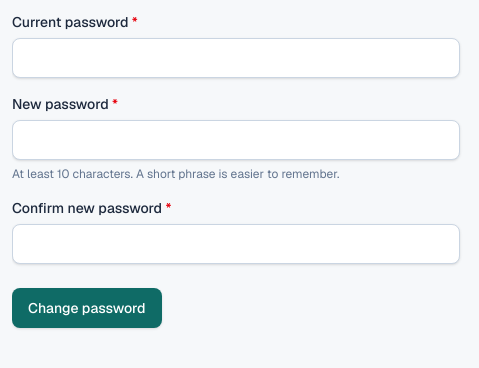
Test: ChangePasswordForm › submits valid input and maps server field errors
The image size is (479, 368).
In the password field labelled "Current password *": (236,58) [12,38,460,78], type "wrong-password"
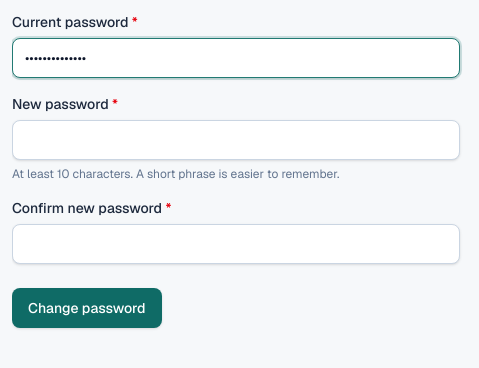
In the password field labelled "New password *": (236,140) [12,120,460,160], type "brand-new-pass"
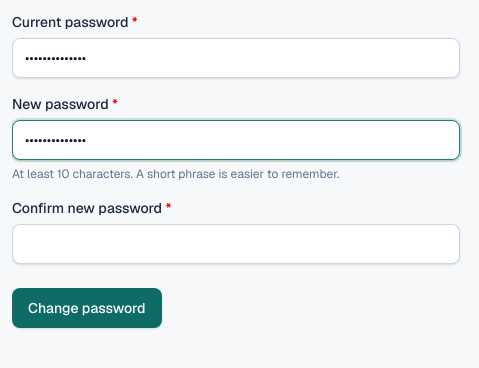
In the password field labelled "Confirm new password *": (236,244) [12,224,460,264], type "brand-new-pass"
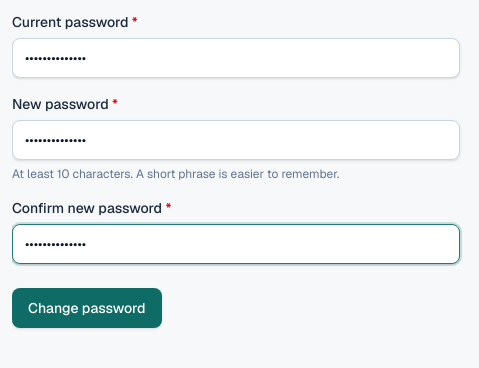
Click the button "Change password": (87,308) [12,288,162,328]
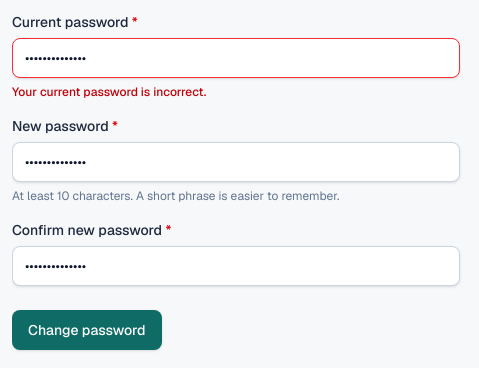
expect the text "Your current password is incorrect." is shown: met, box [12,84,206,100]
